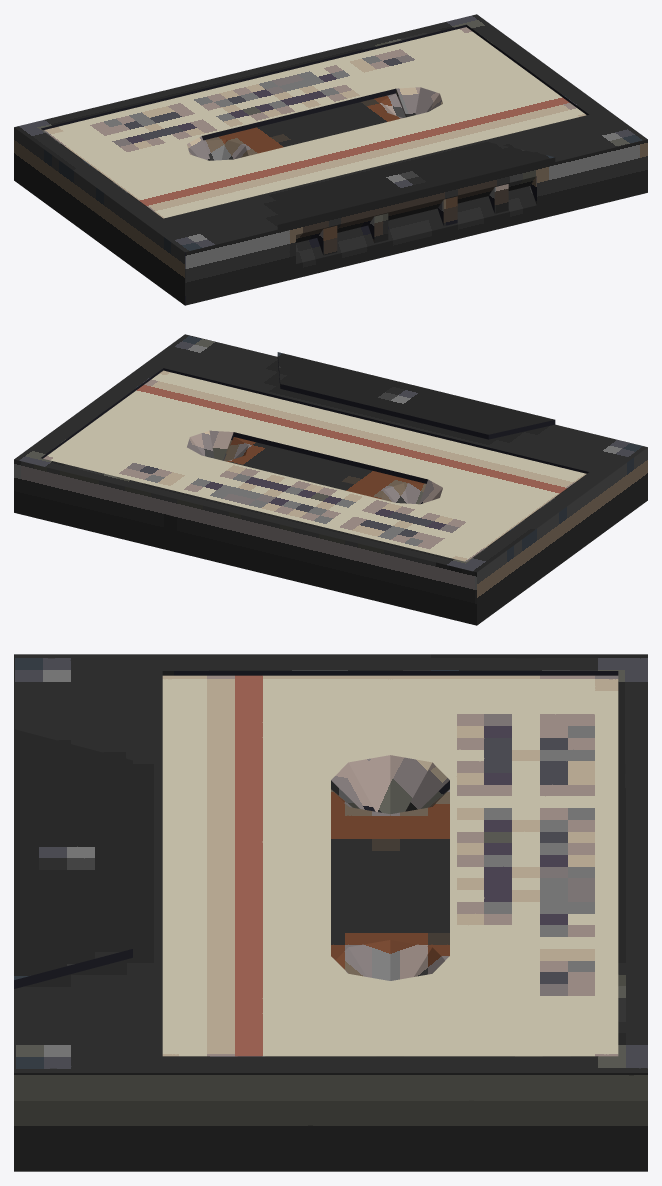
File: psx_cassette_tape.glb
3 renders of one model, top to bottom at view 1: azimuth 30°, elevation 25°; view 2: azimuth 150°, elevation 25°; view 3: azimuth 270°, elevation 25°, orthographic. The views are drawn at different scales.
Parts seen in each view (by area): view 1: cassette_tape; view 2: cassette_tape; view 3: cassette_tape.
Boxes of the visible parts, <box> form: cassette_tape: <box>14,14,647,305</box>; cassette_tape: <box>14,334,647,625</box>; cassette_tape: <box>14,654,647,1171</box>.
Size of the model in its own units: 0.1 by 0.012 by 0.064.
Materials: 1 (1 with a texture image).
